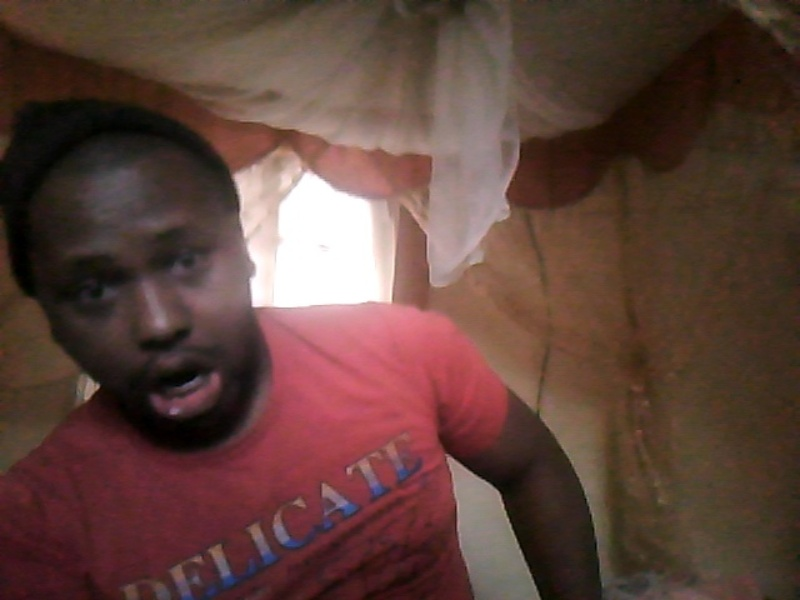TsisyArotava: (11, 106, 294, 455)
